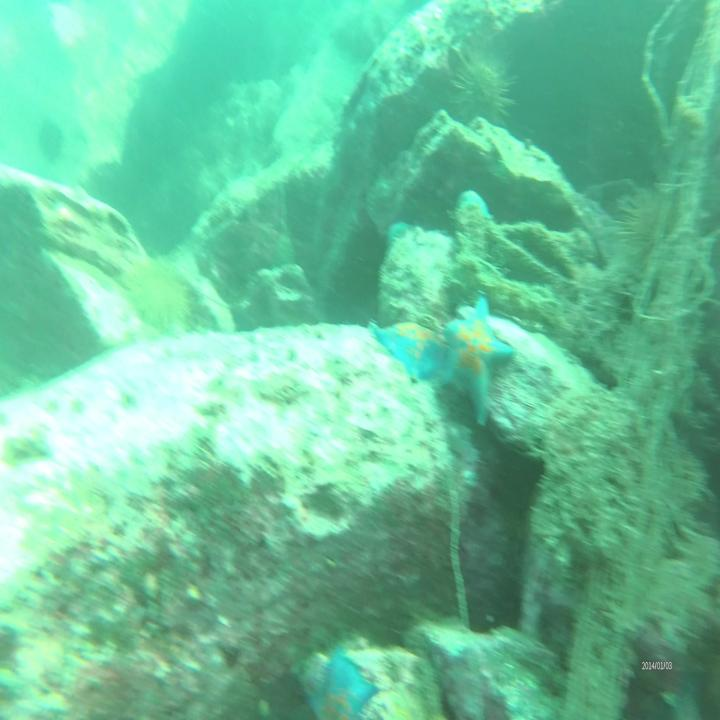echinus: (451, 42, 519, 136), (615, 180, 676, 267)
starfish: (440, 289, 516, 424), (303, 638, 379, 720), (367, 312, 451, 380), (459, 185, 496, 224)
